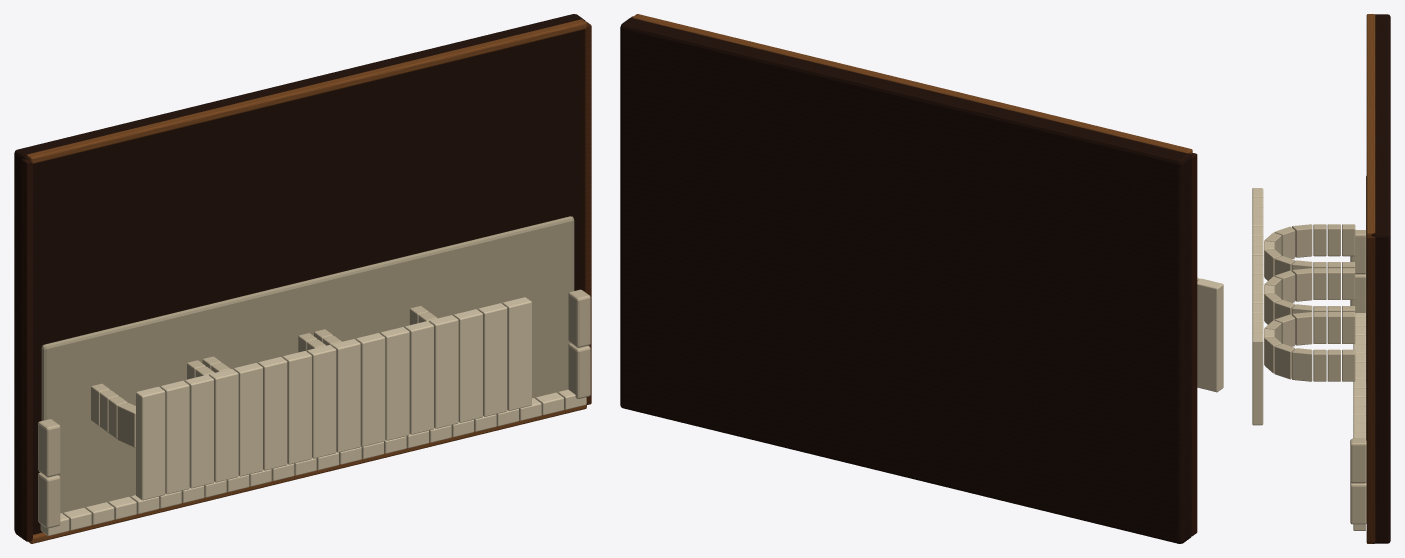
3 renders of one model, left to right at view 1: azimuth 30°, elevation 25°; view 2: azimuth 150°, elevation 25°; view 3: azimuth 270°, elevation 25°, orthographic. The views are drawn at different scales.
Parts seen in each view (by area): view 1: 整榫胡桃木展座, 浅石色池床, 下层长廊承台 1, 下层长廊承台 2, 下层长廊承台 4, 下层长廊承台 3, 后沿橡木压边, 左侧端纹封边, 右侧端纹封边, 前沿橡木压边, 临池压岸 1, 临池压岸 4 (+8 smaller); view 2: 整榫胡桃木展座, 后沿橡木压边, 下层长廊承台 1, 左侧端纹封边; view 3: 整榫胡桃木展座, 右侧端纹封边, 后沿橡木压边, 下层长廊承台 4, 下层石拱 1 · 左墩, 下层石拱 3 · 右墩, 下层石拱 2 · 左墩, 下层石拱 3 · 左墩, 右池岸 2, 右池岸 1, 下层石拱 3 · 拱石 01, 临池压岸 2 (+25 smaller).
Part boxes in pixels (left/top/right/bottom): 整榫胡桃木展座: left=14, top=14, right=585, bottom=539; 浅石色池床: left=41, top=216, right=574, bottom=513; 下层长廊承台 1: left=136, top=368, right=238, bottom=500; 下层长廊承台 2: left=233, top=345, right=336, bottom=476; 下层长廊承台 4: left=429, top=297, right=531, bottom=428; 下层长廊承台 3: left=331, top=321, right=433, bottom=452; 后沿橡木压边: left=26, top=19, right=586, bottom=163; 左侧端纹封边: left=21, top=159, right=32, bottom=541; 右侧端纹封边: left=582, top=21, right=591, bottom=404; 前沿橡木压边: left=28, top=405, right=586, bottom=543; 临池压岸 1: left=40, top=491, right=181, bottom=535; 临池压岸 4: left=451, top=389, right=586, bottom=437; 整榫胡桃木展座: left=620, top=17, right=1191, bottom=543; 后沿橡木压边: left=632, top=14, right=1192, bottom=153; 下层长廊承台 1: left=1197, top=277, right=1223, bottom=392; 左侧端纹封边: left=1191, top=153, right=1197, bottom=536; 整榫胡桃木展座: left=1371, top=14, right=1390, bottom=543; 右侧端纹封边: left=1366, top=235, right=1375, bottom=542; 后沿橡木压边: left=1366, top=14, right=1375, bottom=235; 下层长廊承台 4: left=1252, top=303, right=1263, bottom=425; 下层石拱 1 · 左墩: left=1313, top=224, right=1355, bottom=256; 下层石拱 3 · 右墩: left=1313, top=349, right=1355, bottom=381; 下层石拱 2 · 左墩: left=1313, top=268, right=1355, bottom=299; 下层石拱 3 · 左墩: left=1313, top=312, right=1355, bottom=343; 右池岸 2: left=1350, top=438, right=1366, bottom=483; 右池岸 1: left=1350, top=482, right=1366, bottom=524; 下层石拱 3 · 拱石 01: left=1292, top=348, right=1312, bottom=381; 临池压岸 2: left=1353, top=362, right=1365, bottom=415.
Size of the model in its own units: 14.45 by 9.45 by 3.8.
7 materials, 4 textured.
